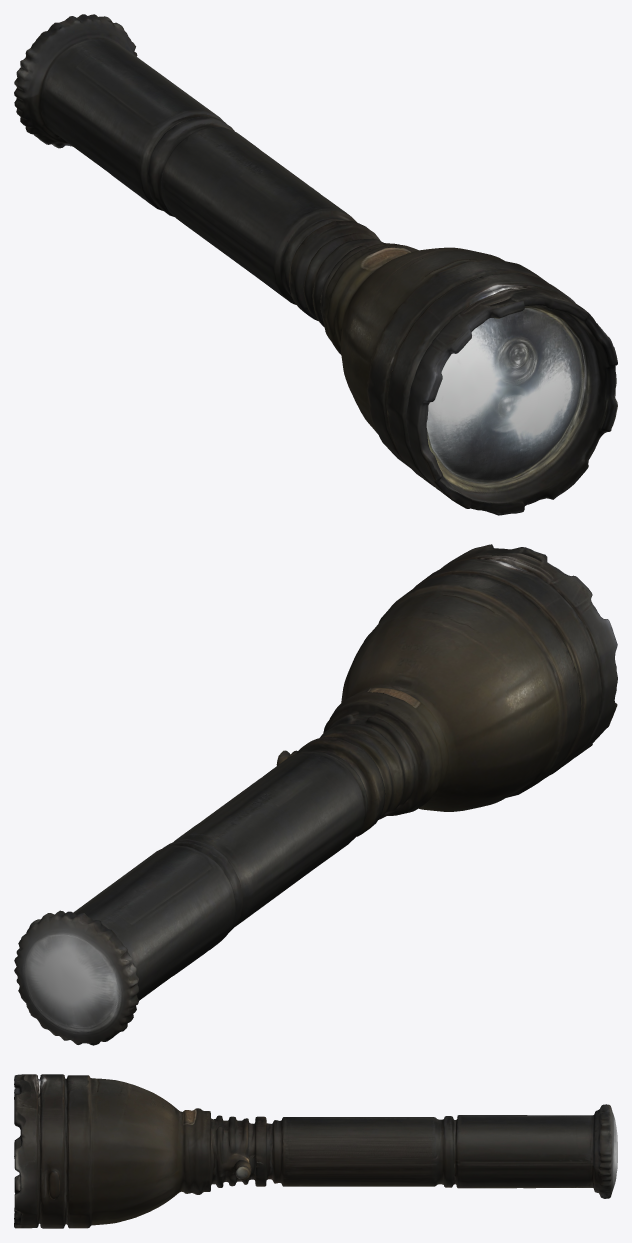
The model's file is Realistic_oldschool_f_1030192416_refine.fbx.
3 views of the same model, one above another, from view 1: azimuth 30°, elevation 25°; view 2: azimuth 150°, elevation 25°; view 3: azimuth 270°, elevation 25° (orthographic). The views are drawn at different scales.
Visible parts, largest first — view 1: Mesh_0; view 2: Mesh_0; view 3: Mesh_0.
Part boxes in pixels (box(x1,y1,x2,y2)): Mesh_0: box(14, 14, 617, 515); Mesh_0: box(14, 544, 617, 1045); Mesh_0: box(14, 1074, 617, 1228).
Bounding box in the file's own units: 53.34 × 51.31 × 200.
1 material, 1 textured.
